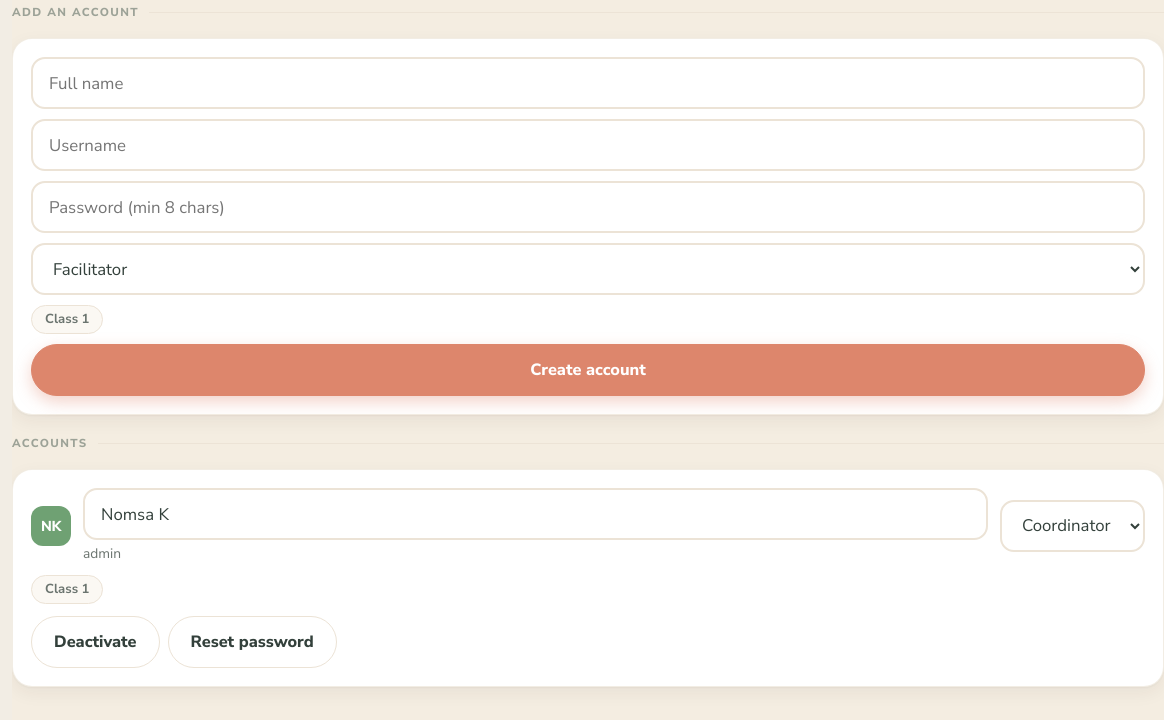
AccountManager › blocks creation with an invalid username
Type "X" into the field named "new name" at (588, 83), box [31,57,1145,109]
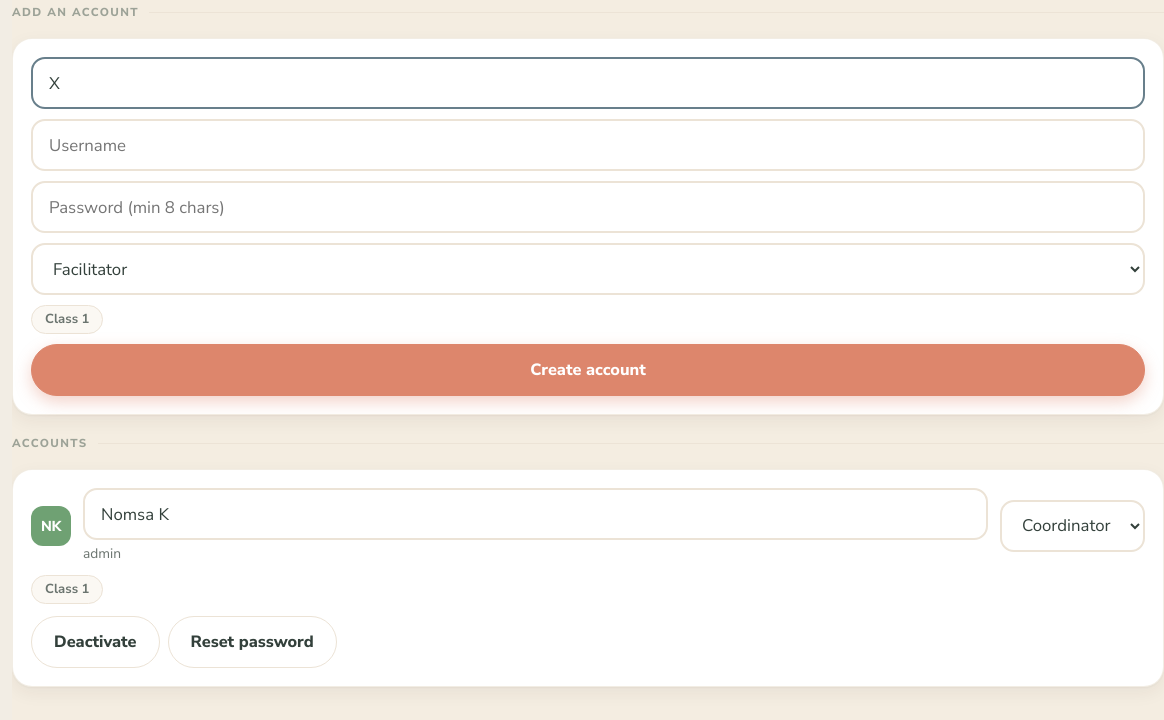
Type "ab" into the field named "new username" at (588, 145), box [31,119,1145,171]
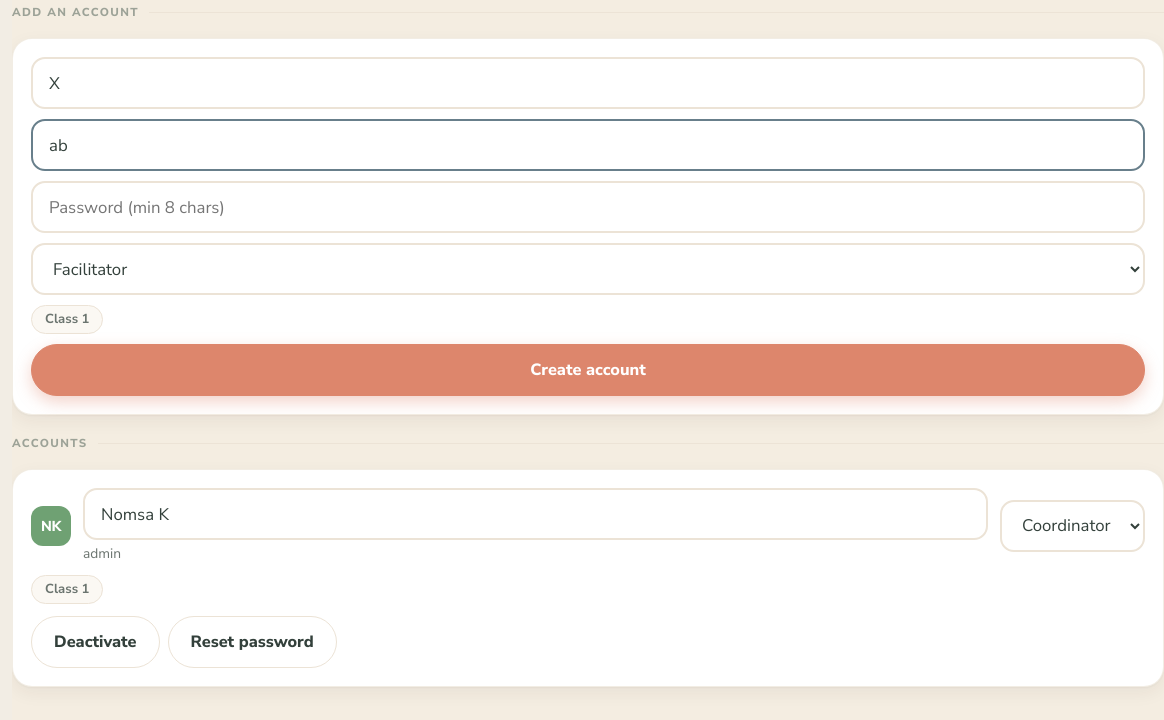
Type "password123" into the field named "new password" at (588, 207), box [31,181,1145,233]
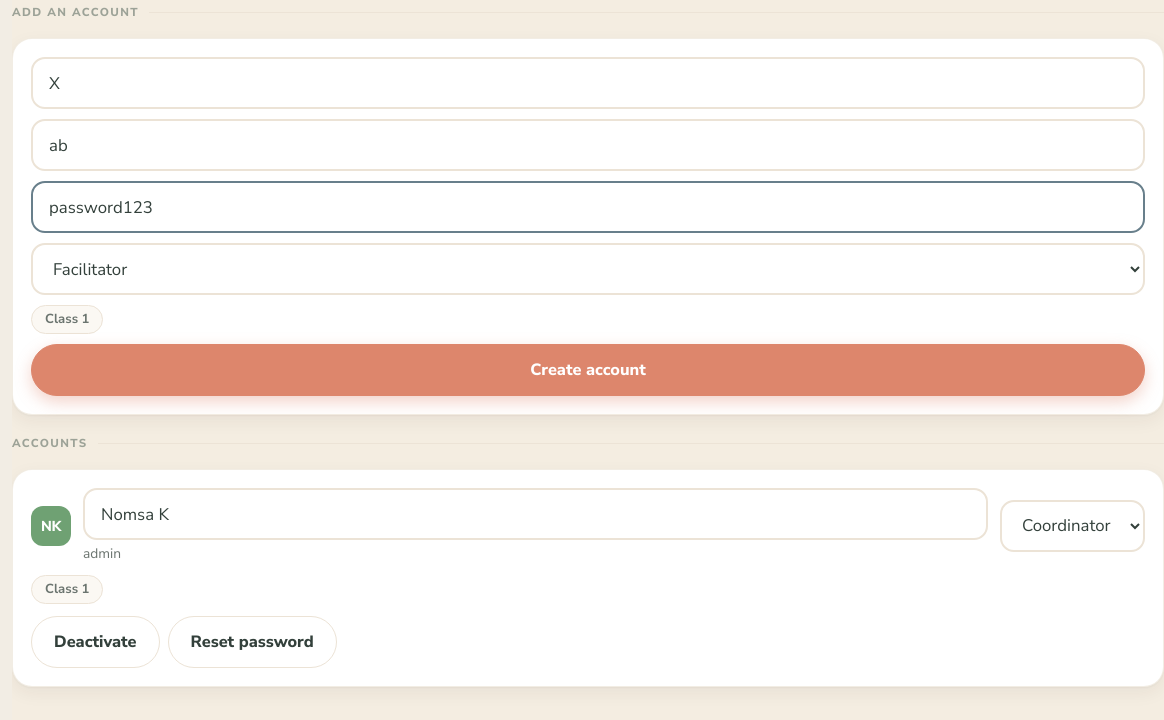
Click the button "Create account" at (588, 370), box [31,344,1145,396]
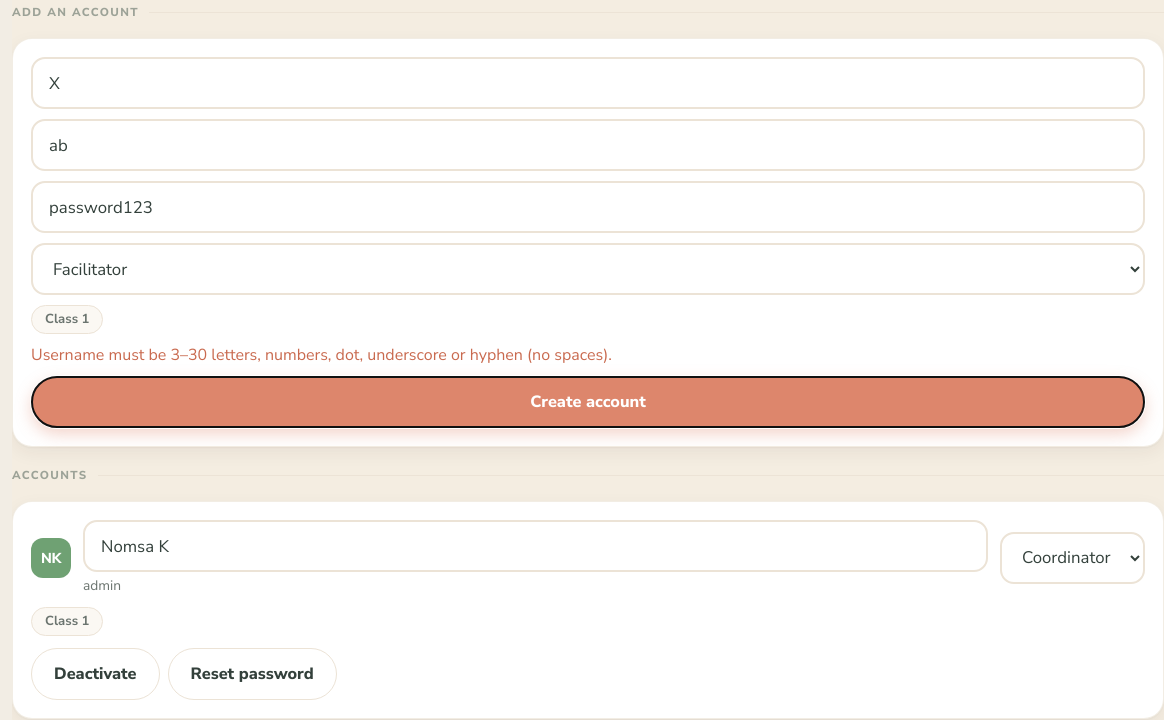
Expected: the text "Username must be 3" is shown, [31,344,612,366]
